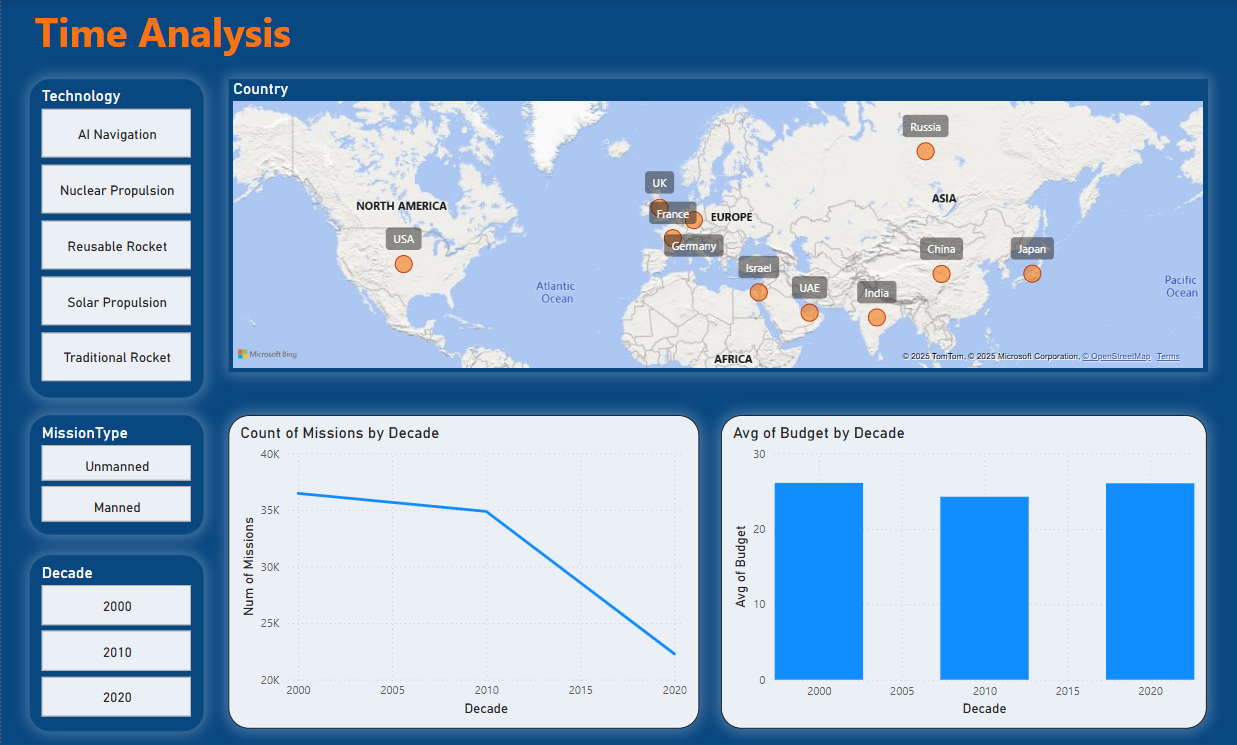

The dashboard page shown, as its layout file describes it:
{"tool":"powerbi","page":{"name":"Time Analysis","canvas":[1325,800],"ordinal":1},"visuals":[{"type":"lineChart","title":"Count of Missions by Decade","fields":{"Category":["DimYear.Decade"],"Y":["Count(FactMissions.MissionName)"]},"box":[243.6,446.2,504.6,335.6],"z":0},{"type":"clusteredColumnChart","title":"Avg of Budget by Decade","fields":{"Category":["DimYear.Decade"],"Y":["Avg(FactMissions.Budget)"]},"box":[771.9,446.2,520.8,335.6],"z":1000},{"type":"advancedSlicerVisual","fields":{"Values":["DimMissionType.MissionType"]},"box":[31.1,446.2,186.4,128],"z":2000},{"type":"advancedSlicerVisual","fields":{"Values":["DimTechnology.Technology"]},"box":[31.1,85.8,186.4,341.8],"z":3000},{"type":"advancedSlicerVisual","fields":{"Values":["DimYear.Decade"]},"box":[31.1,596.6,186.4,188.9],"z":4000},{"type":"map","fields":{"Category":["DimCountry.Country"]},"box":[243.6,85.8,1050.3,314.5],"z":5000},{"type":"textbox","box":[31.1,0,321.9,72.1],"z":6000}]}

Visuals, with their boxes in screenshot pixels (x1, y1, x2, y2), scaled from the page's 1325x800 canvas onto the 1237x745 screenshot:
"Count of Missions by Decade" lineChart: 227:416:699:728
"Avg of Budget by Decade" clusteredColumnChart: 721:416:1207:728
advancedSlicerVisual - DimMissionType.MissionType: 29:416:203:535
advancedSlicerVisual - DimTechnology.Technology: 29:80:203:398
advancedSlicerVisual - DimYear.Decade: 29:556:203:731
map - DimCountry.Country: 227:80:1208:373
textbox: 29:0:330:67
